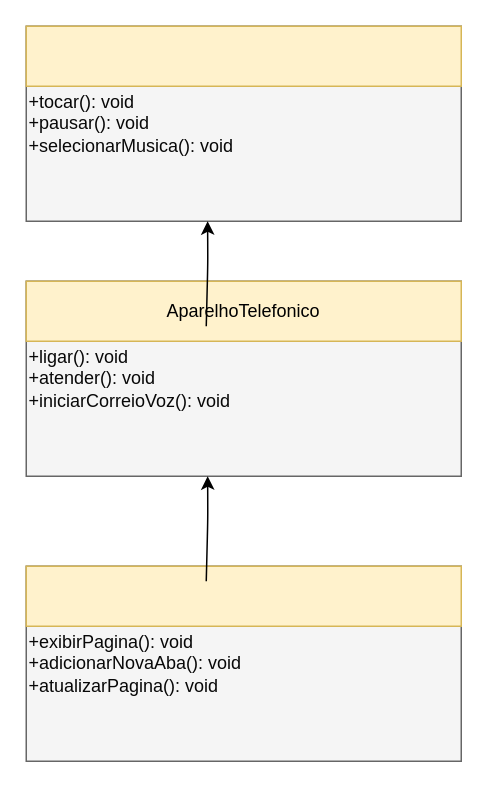
Image size: 488x788. Some labels were removed from this diagram. Each missing label, with the centre of its shape:
"NavegadorInternet" belongs at [243,595].
"ReprodutorMusical" belongs at [243,55].
